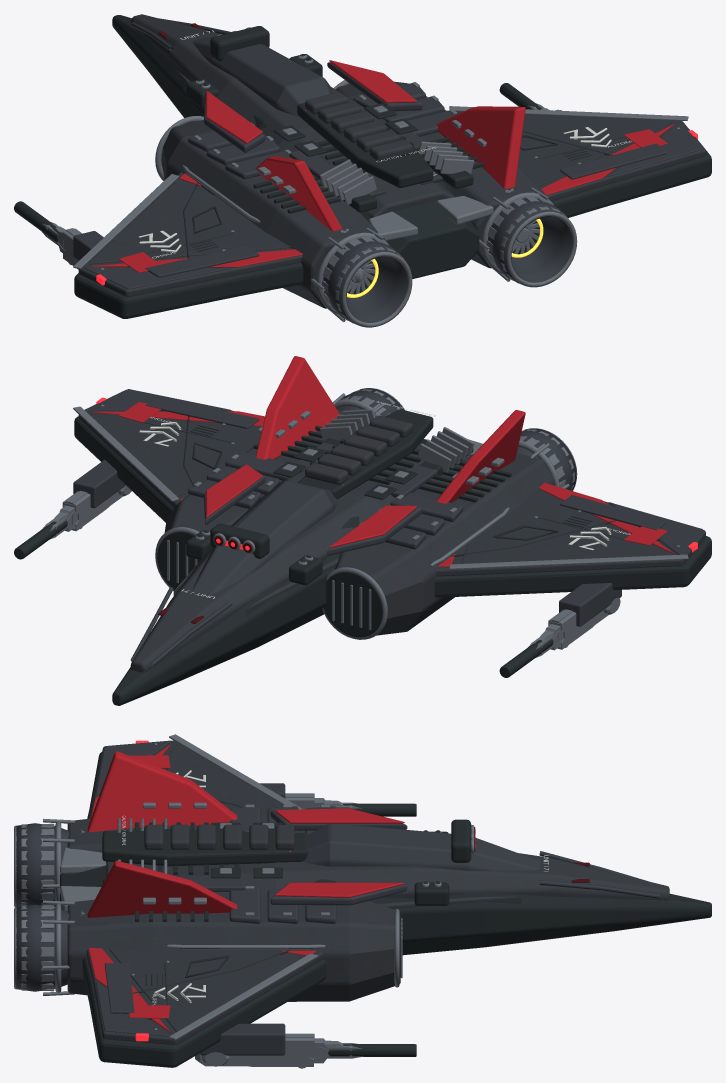
Rendered from grunt.glb.
3 views of the same model, one above another, from view 1: azimuth 30°, elevation 25°; view 2: azimuth 150°, elevation 25°; view 3: azimuth 270°, elevation 25° (orthographic).
Visible parts, largest first — view 1: 主装甲_陶瓷金属涂层, 碳化结构与接缝, 次级装甲_深色钢, 拉丝钛合金, 识别色, 丝印与编号; view 2: 主装甲_陶瓷金属涂层, 碳化结构与接缝, 次级装甲_深色钢, 拉丝钛合金, 识别色, 丝印与编号; view 3: 主装甲_陶瓷金属涂层, 碳化结构与接缝, 次级装甲_深色钢, 识别色, 拉丝钛合金, 丝印与编号.
Part boxes in pixels (x1,y1,x2,y2): 主装甲_陶瓷金属涂层: [78, 14, 705, 308]; 碳化结构与接缝: [14, 15, 711, 318]; 次级装甲_深色钢: [73, 18, 702, 322]; 拉丝钛合金: [41, 27, 688, 327]; 识别色: [91, 60, 674, 272]; 丝印与编号: [139, 30, 631, 258]; 主装甲_陶瓷金属涂层: [78, 389, 705, 672]; 碳化结构与接缝: [14, 408, 711, 705]; 次级装甲_深色钢: [73, 388, 702, 666]; 拉丝钛合金: [42, 388, 688, 657]; 识别色: [91, 356, 674, 566]; 丝印与编号: [139, 401, 630, 598]; 主装甲_陶瓷金属涂层: [67, 740, 669, 1044]; 碳化结构与接缝: [60, 752, 711, 1067]; 次级装甲_深色钢: [16, 740, 659, 1055]; 识别色: [87, 744, 404, 1033]; 拉丝钛合金: [14, 734, 474, 1068]; 丝印与编号: [122, 770, 548, 1005].
Bounding box in the file's own units: 7.09 × 1.53 × 6.87.
Materials: 9 (1 with a texture image).
